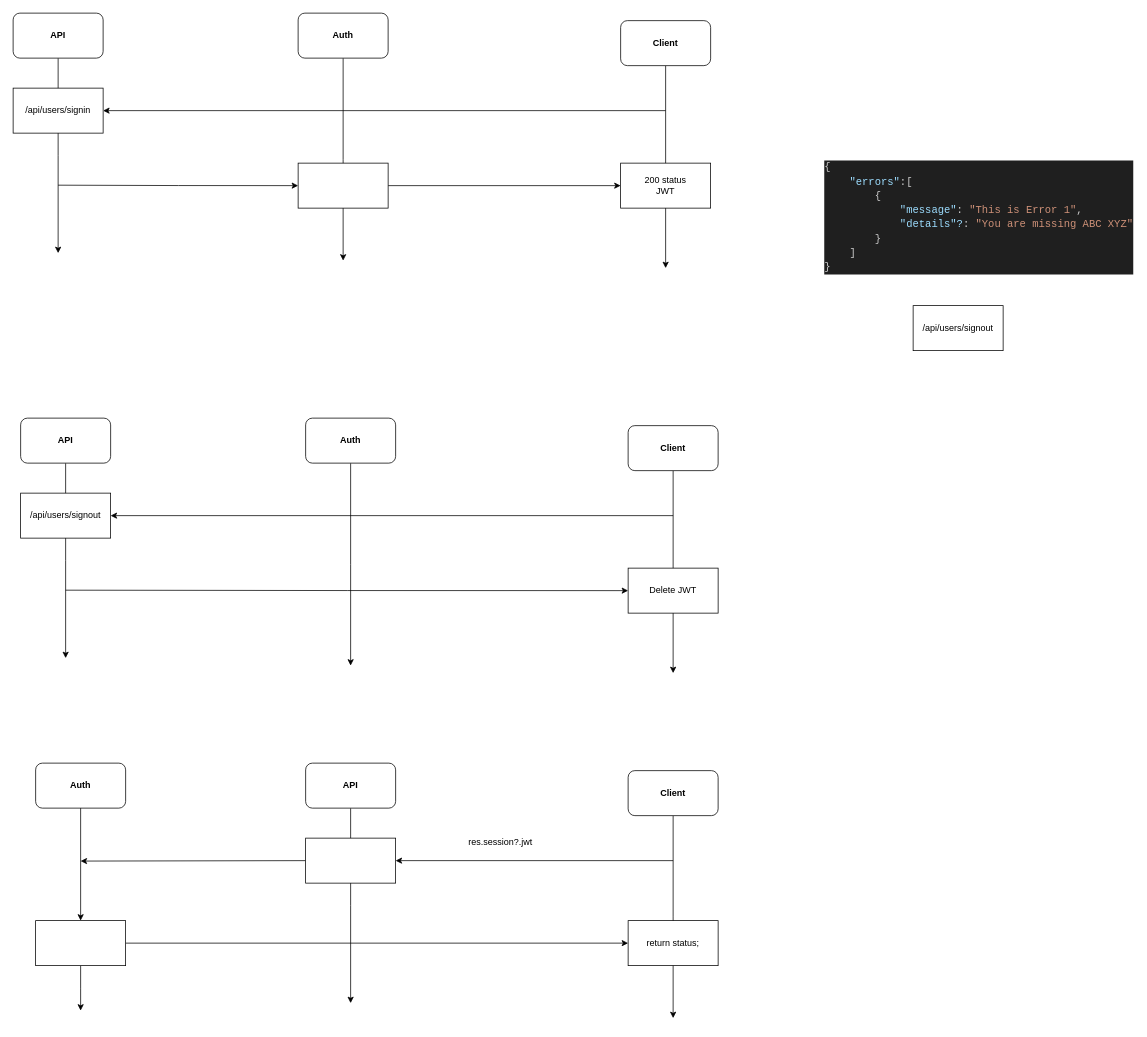
The diagram is 1147 pixels wide and 1037 high, and some of its shapes have lost their labels. The centre of each missing label's shape, as x and y in pixels:
/api/users/current-user: (x=350, y=860)
Check in DB: (x=342, y=185)
jwt.verify(res.session.jwt, "secretKey");: (x=80, y=943)
